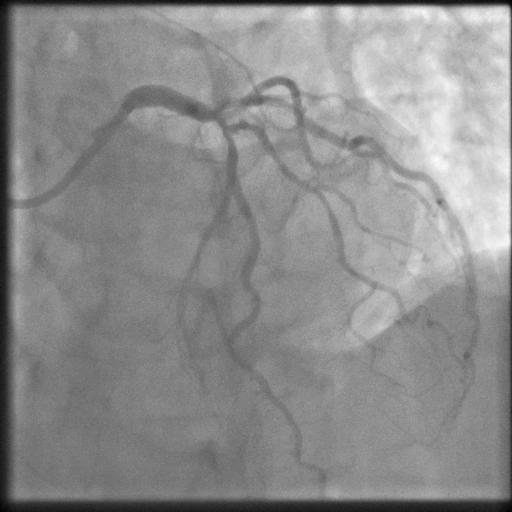Stenosis: (214, 112, 238, 149)
